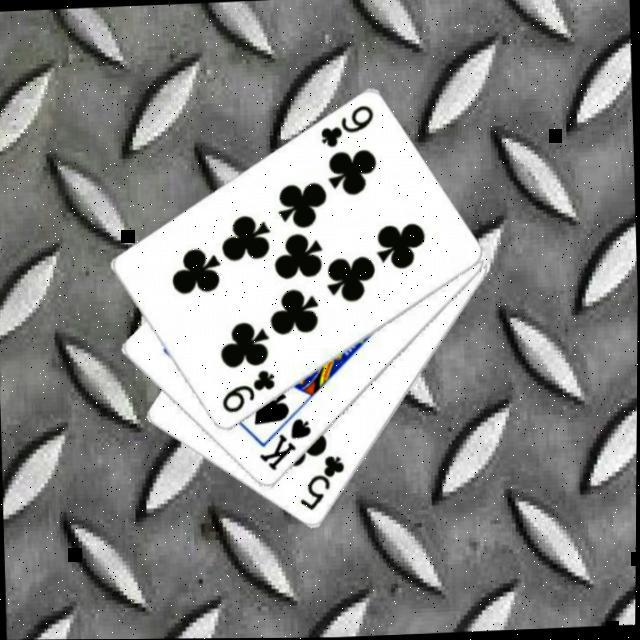5C: (297, 454, 351, 516)
9C: (219, 368, 281, 418), (318, 104, 380, 153)
KS: (257, 416, 317, 476)
